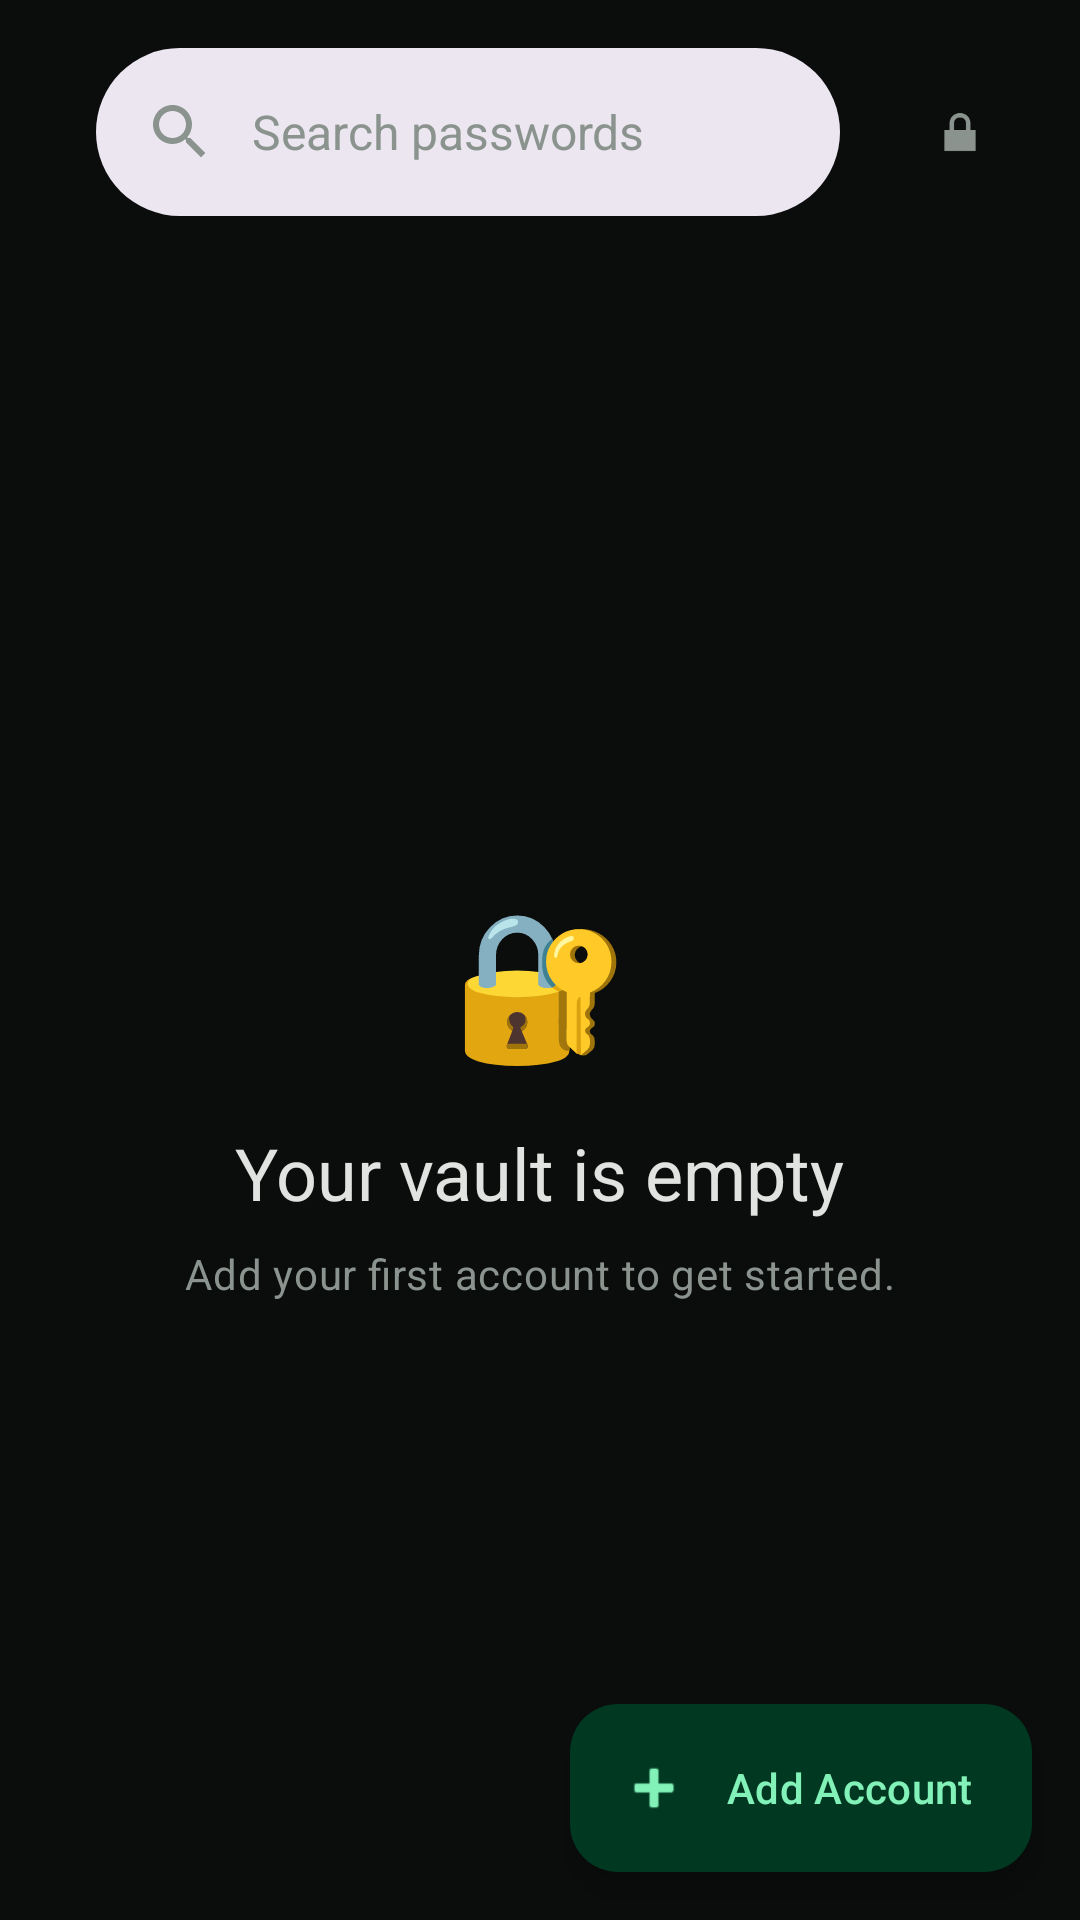

Icons on this 1080 × 1920 Android screen, each with the point to tap as (x,y):
Lock Vault: (960,132)
